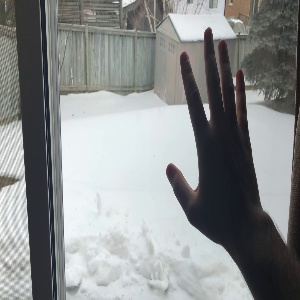hand: (167, 27, 264, 222)
